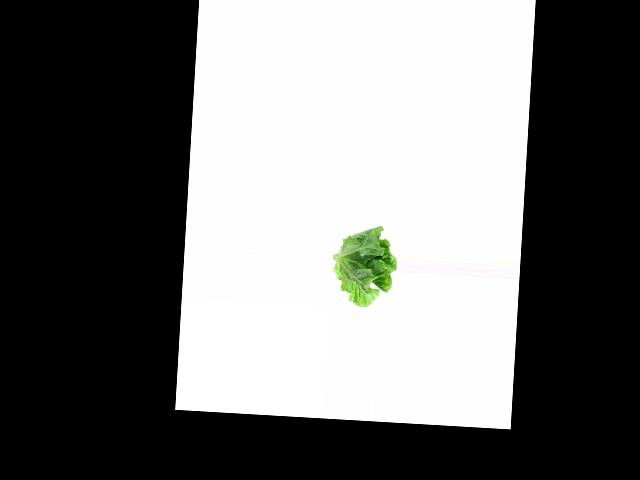lettuce: (333, 222, 398, 308)
